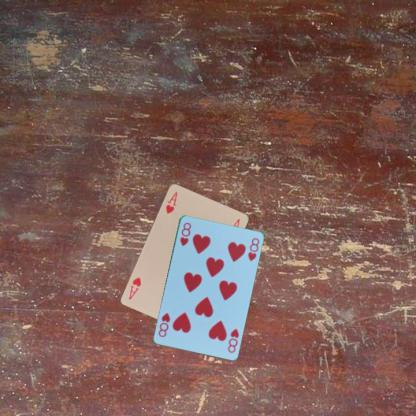8h: (225, 326, 240, 353), (178, 220, 192, 247)
Ah: (163, 189, 178, 215)
